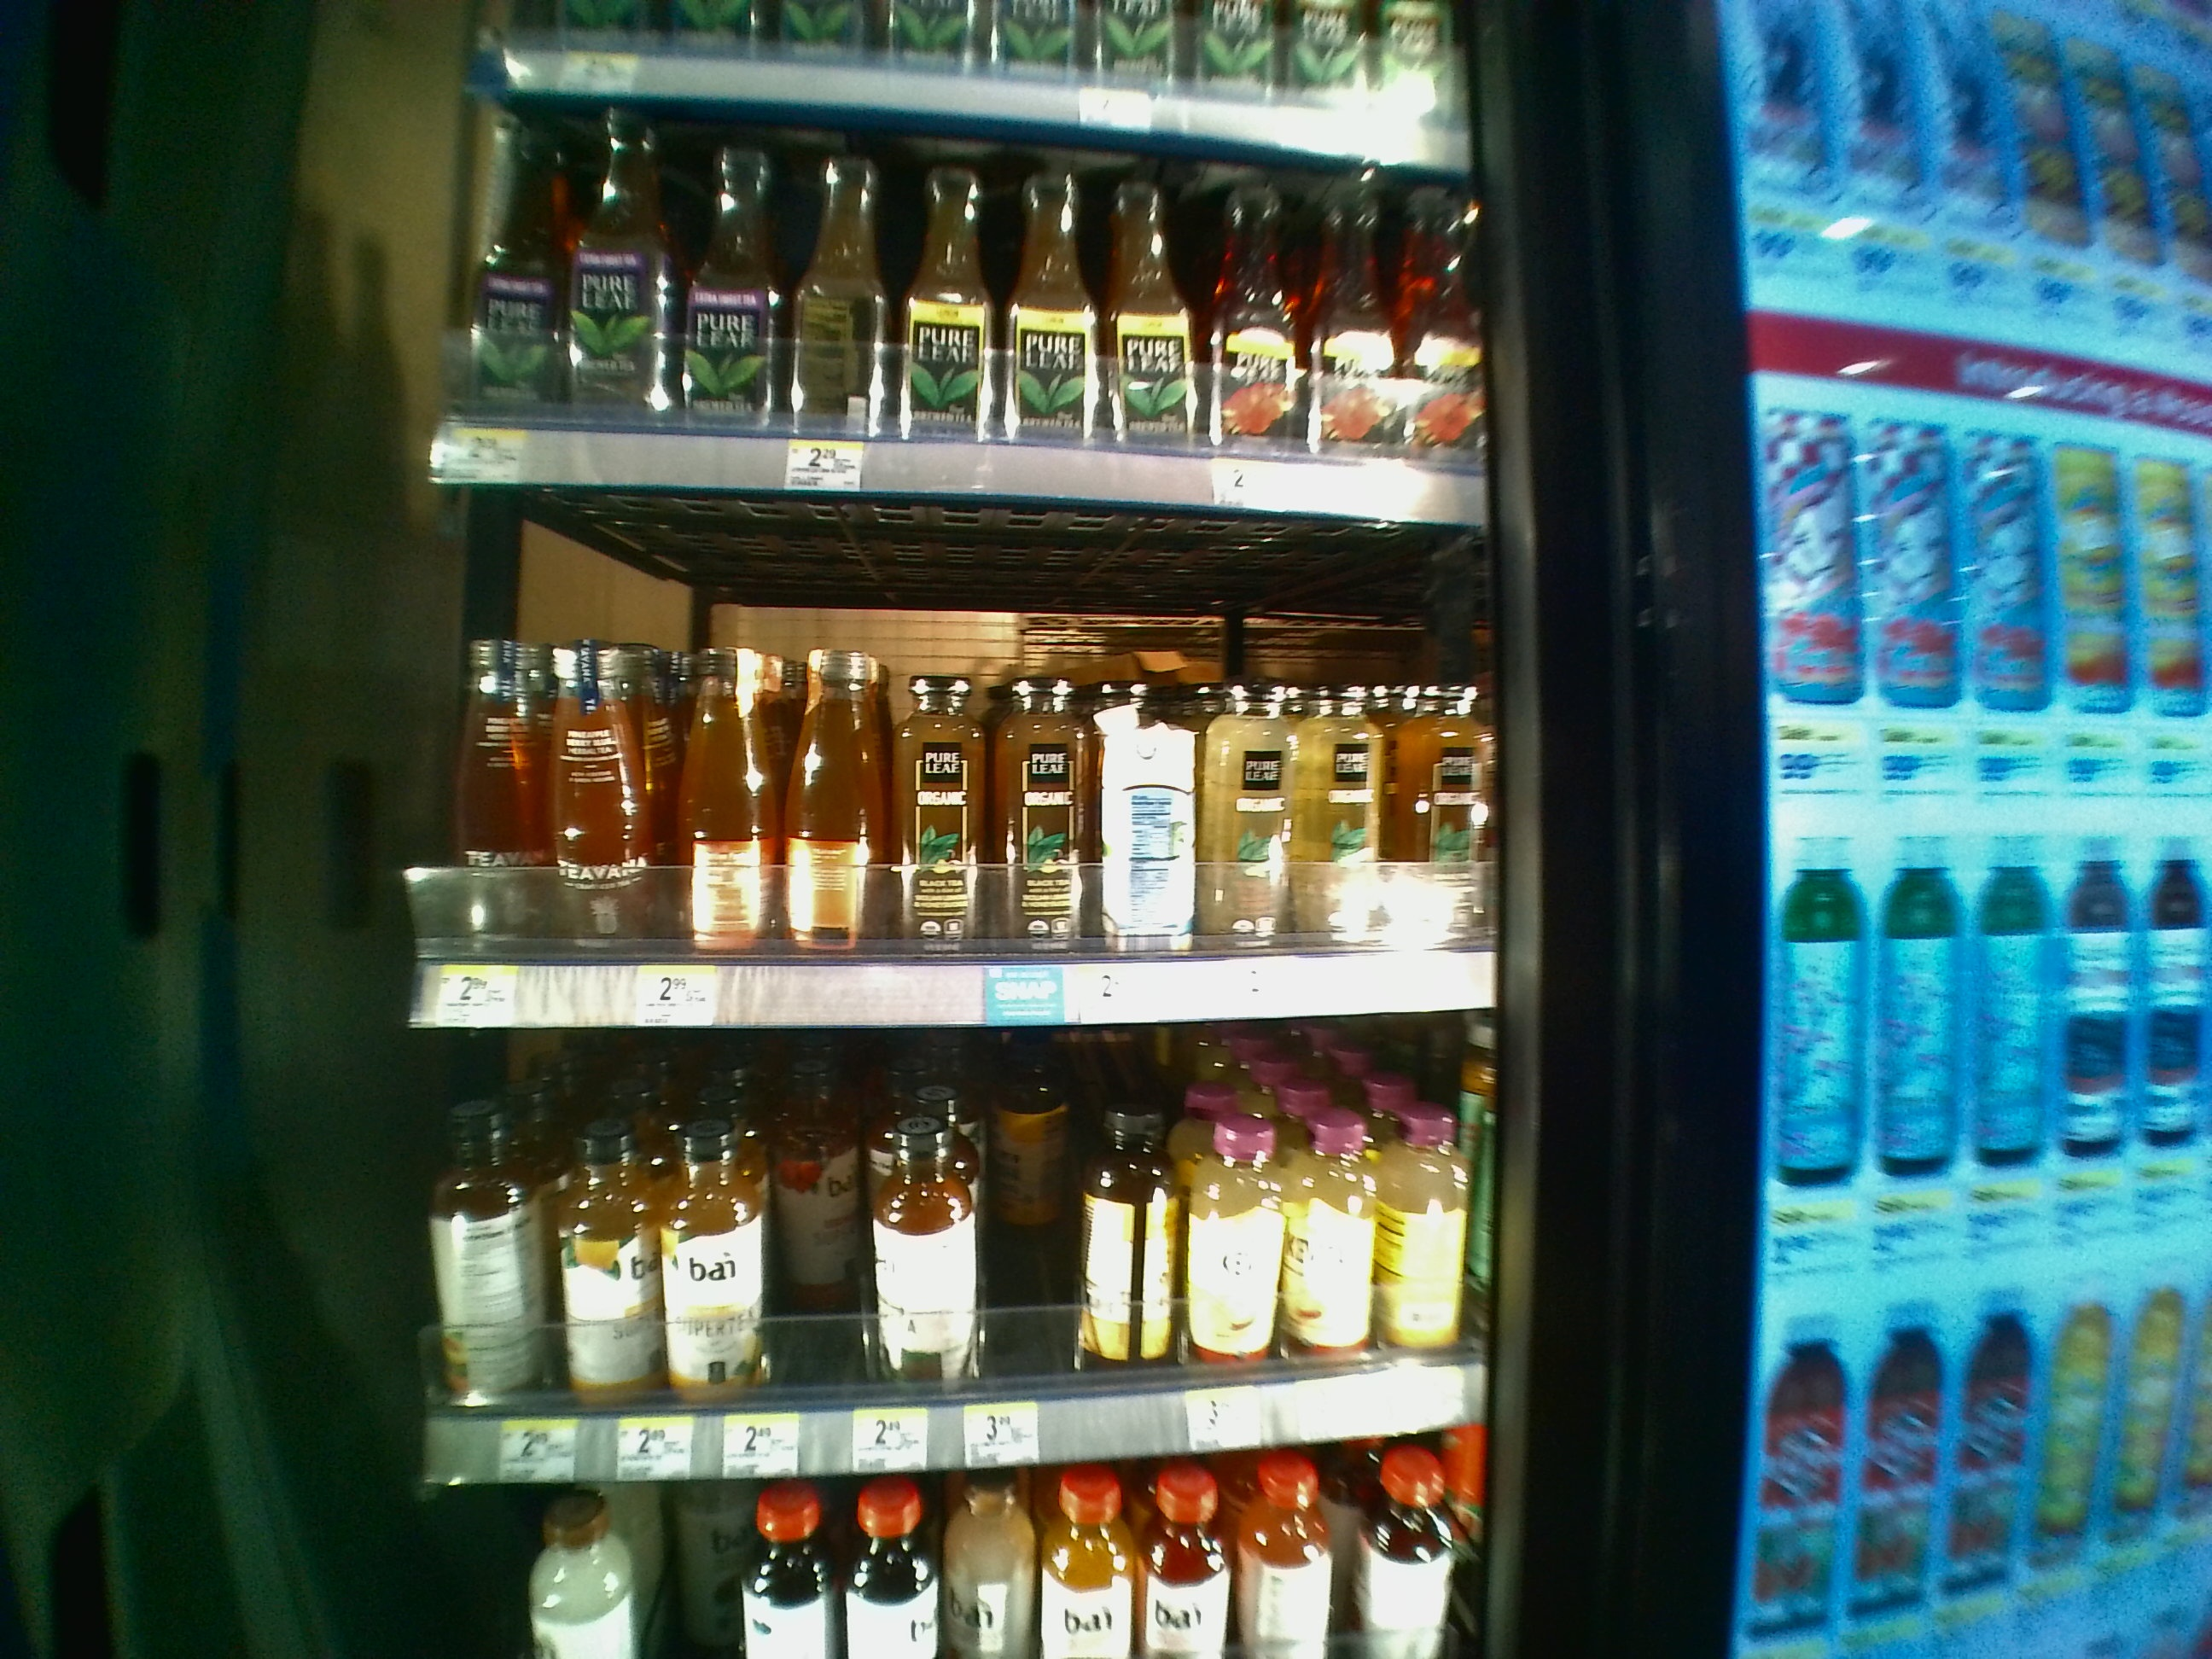shelf: (416, 493, 1496, 1014), (406, 1035, 1501, 1476), (434, 82, 1479, 481)
